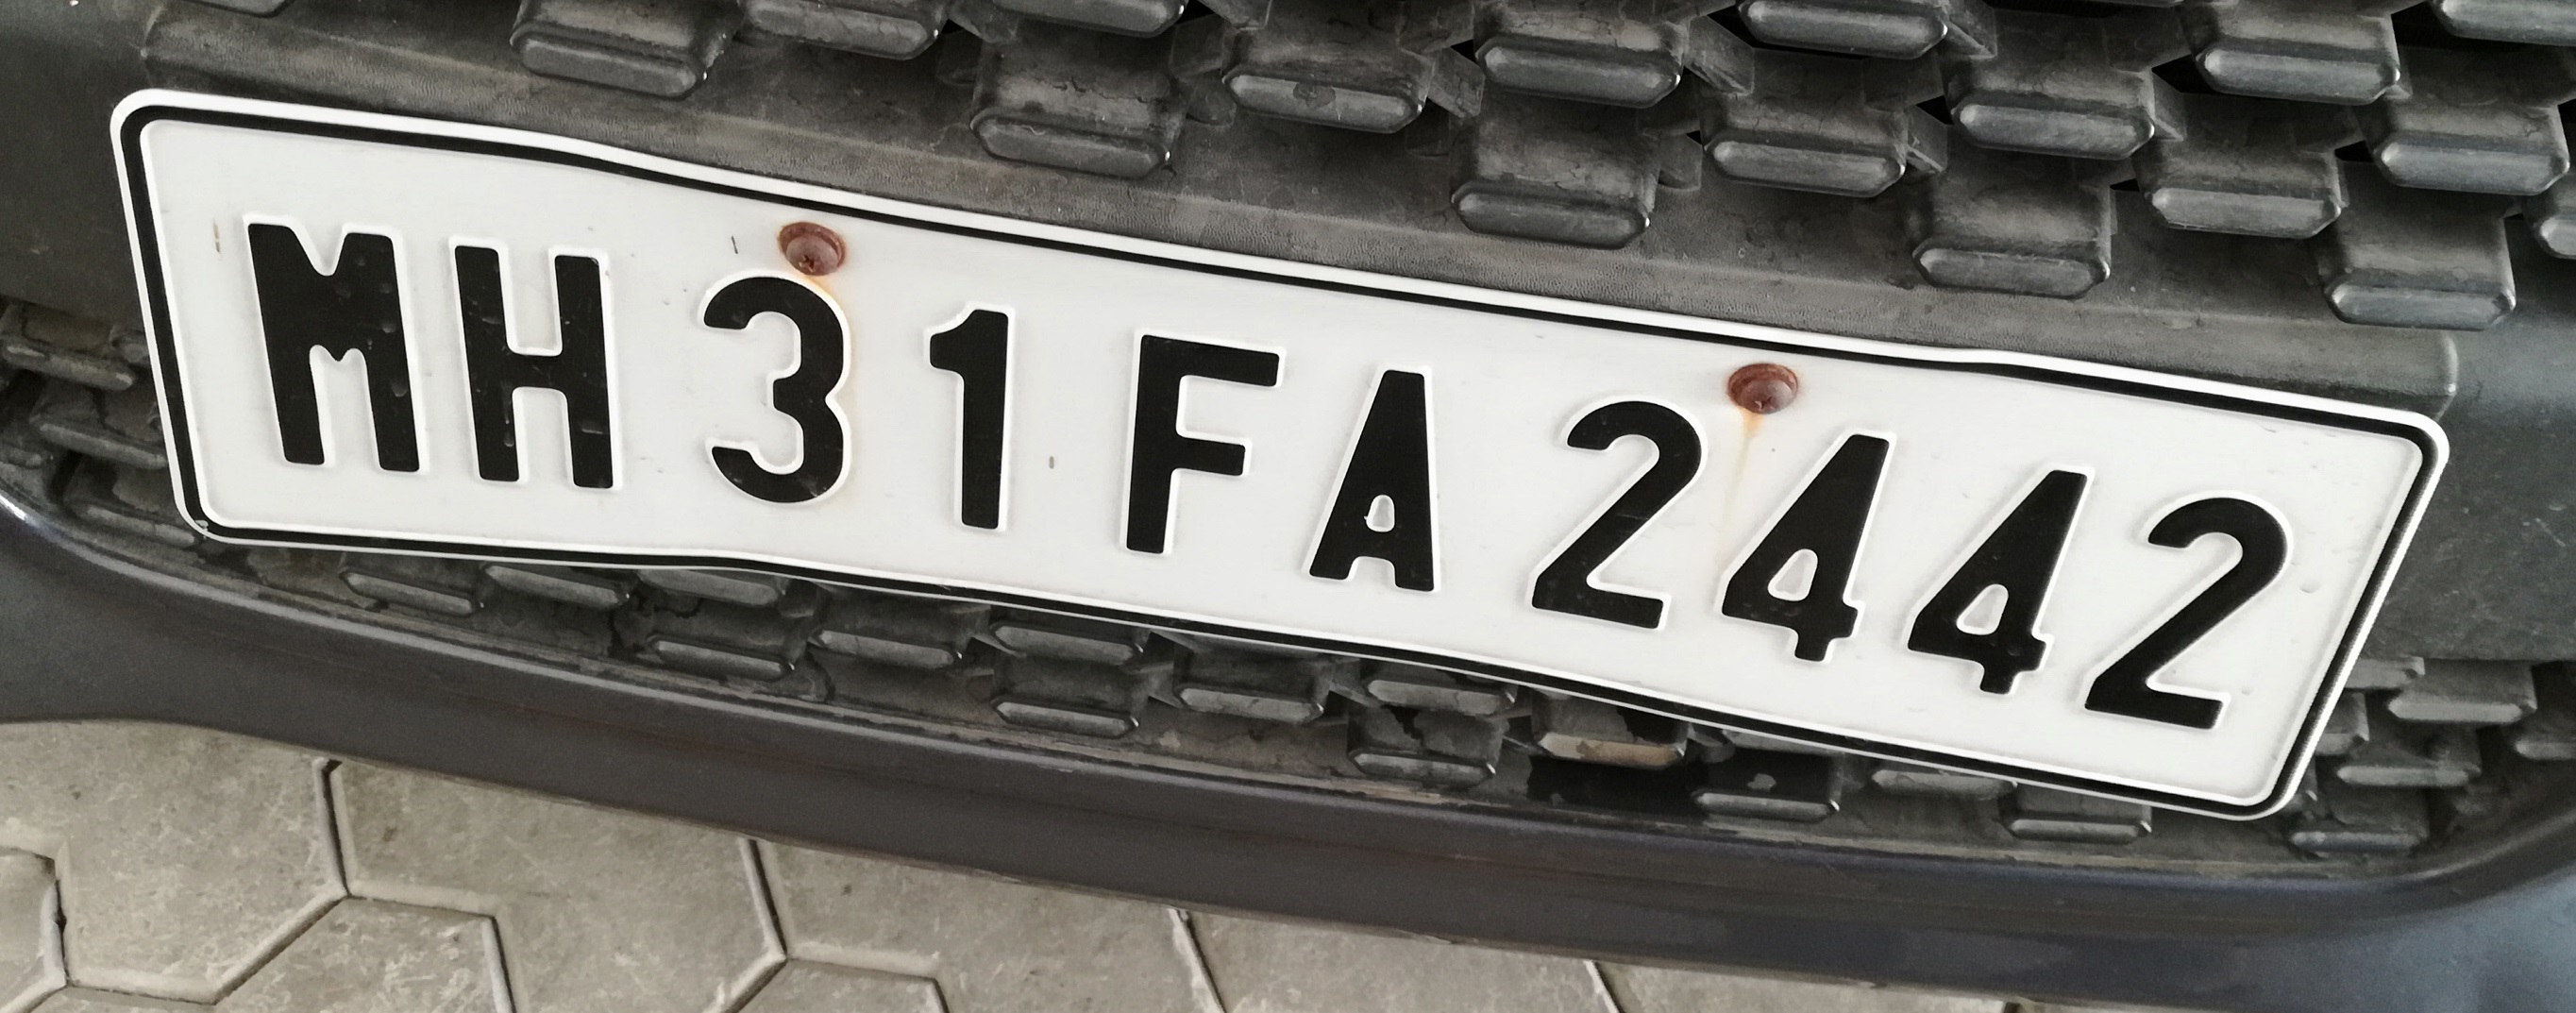numberplate: (104, 85, 2453, 829)
